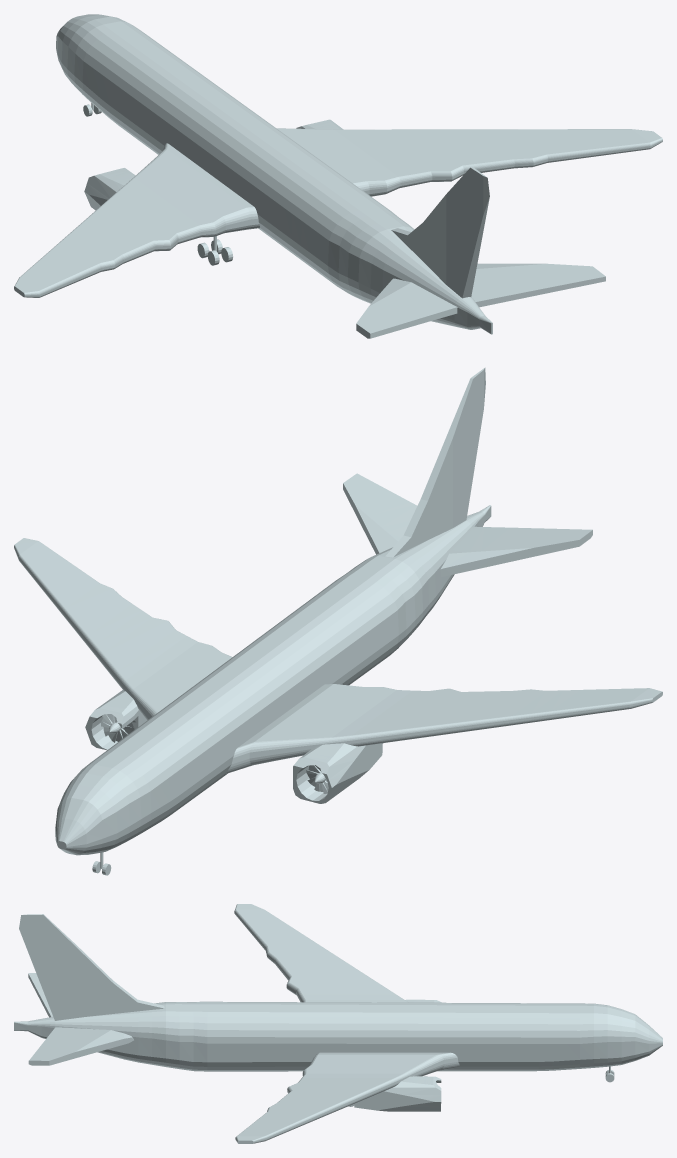
The picture shows the model from 3 angles, top to bottom: view 1: azimuth 30°, elevation 25°; view 2: azimuth 150°, elevation 25°; view 3: azimuth 270°, elevation 25°; orthographic projection. The views are drawn at different scales.
Parts seen in each view (by area): view 1: Aircraft visual hull, Landing gear; view 2: Aircraft visual hull; view 3: Aircraft visual hull.
Boxes of the visible parts, bbox=[...] form: Aircraft visual hull: bbox=[14, 14, 662, 338]; Landing gear: bbox=[83, 103, 233, 265]; Aircraft visual hull: bbox=[14, 367, 662, 855]; Aircraft visual hull: bbox=[14, 904, 662, 1143].
Bounding box in the file's own units: 47.3 × 15.76 × 55.04.
